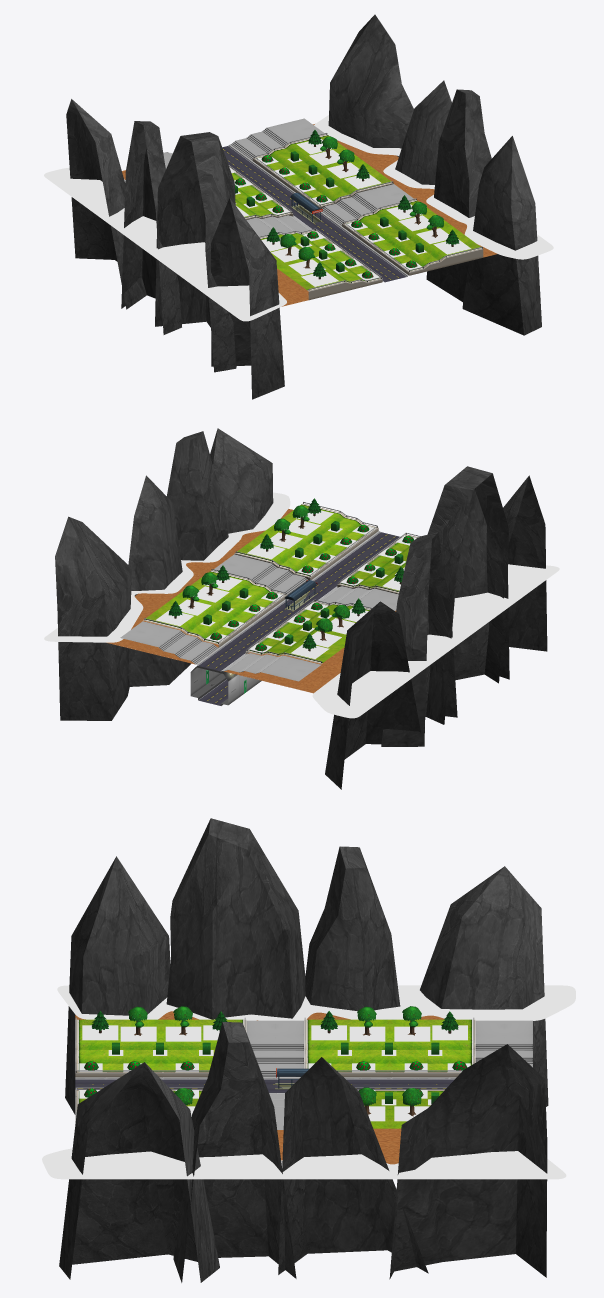
File: Mexico_05.fbx
3 renders of one model, top to bottom at view 1: azimuth 30°, elevation 25°; view 2: azimuth 150°, elevation 25°; view 3: azimuth 270°, elevation 25°, orthographic. The views are drawn at different scales.
Parts seen in each view (by area): view 1: Mexico_05; view 2: Mexico_05; view 3: Mexico_05.
Boxes of the visible parts, x1,y1,x2,y2 form: Mexico_05: (44,14,553,399); Mexico_05: (44,428,559,789); Mexico_05: (42,818,575,1282).
Size of the model in its own units: 22617 by 13384 by 25170.
Materials: 10 (10 with a texture image).
